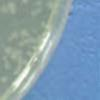white: (3, 46, 13, 57), (2, 60, 12, 71), (25, 49, 35, 59), (17, 52, 24, 66), (11, 52, 19, 63), (29, 9, 38, 18), (43, 22, 52, 31), (31, 44, 40, 53), (0, 54, 9, 63), (0, 75, 9, 84), (0, 5, 8, 15), (10, 5, 17, 16), (6, 1, 15, 9), (28, 36, 37, 44), (11, 31, 19, 40), (15, 63, 23, 72), (33, 0, 43, 7), (35, 6, 43, 14), (46, 1, 54, 9), (38, 19, 46, 27), (0, 43, 6, 53), (20, 28, 28, 35), (31, 28, 38, 36), (36, 33, 43, 41), (22, 38, 30, 45), (18, 41, 26, 48), (15, 49, 23, 56), (22, 58, 29, 66), (6, 36, 14, 42), (12, 70, 20, 76), (20, 32, 25, 41), (24, 31, 31, 37), (20, 0, 29, 4), (42, 31, 47, 38), (7, 71, 13, 76)
